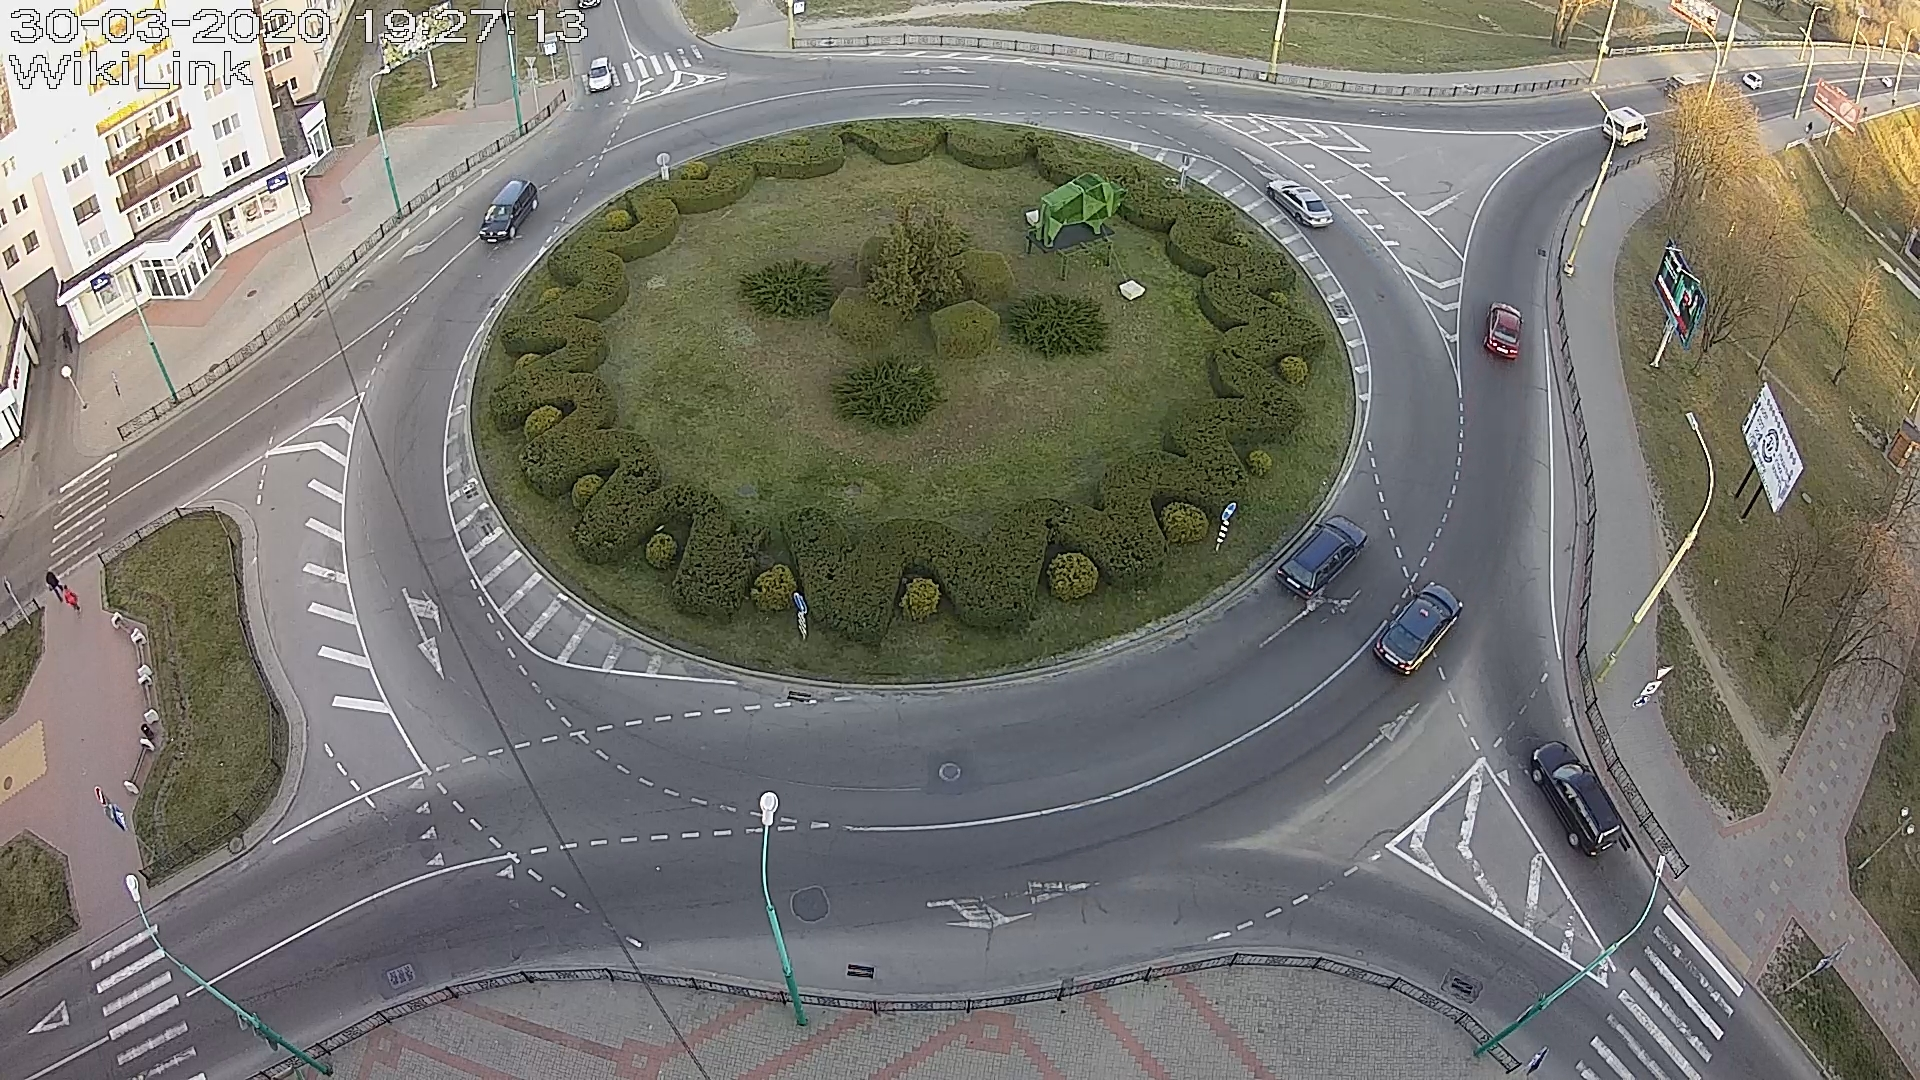car: (1530, 741, 1623, 860), (1371, 582, 1464, 678), (1275, 514, 1367, 600), (479, 179, 539, 243), (1266, 178, 1335, 228), (1484, 301, 1523, 361), (1602, 105, 1650, 148), (588, 55, 613, 94)
